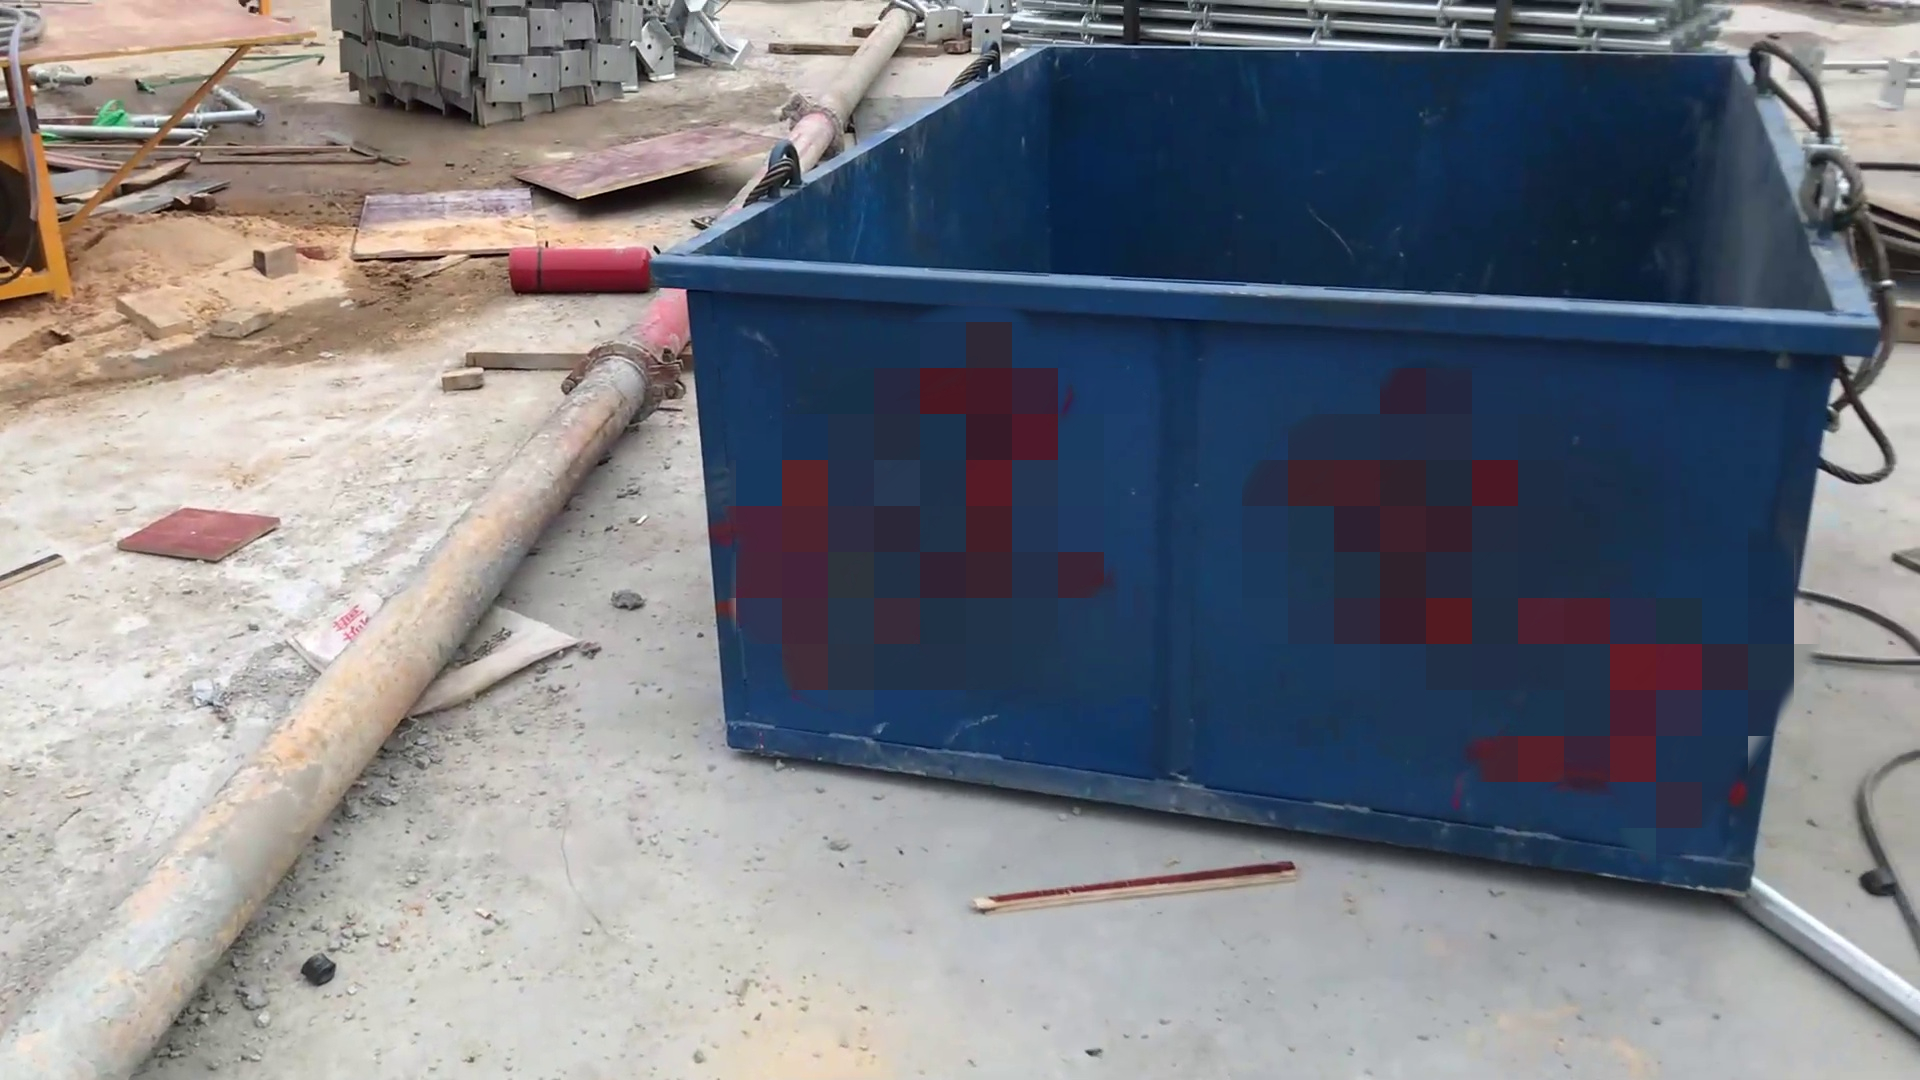board: (338, 167, 566, 260)
hopper: (629, 33, 1884, 913)
scaffold: (334, 1, 692, 131)
